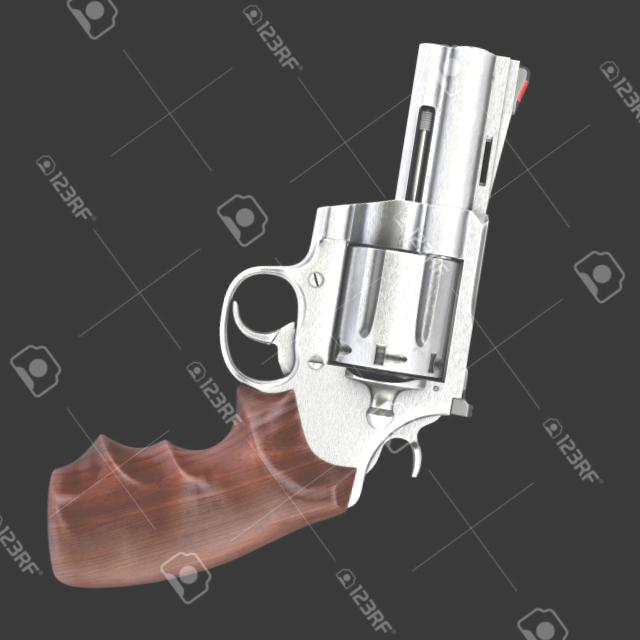handgun: (26, 0, 542, 639)
